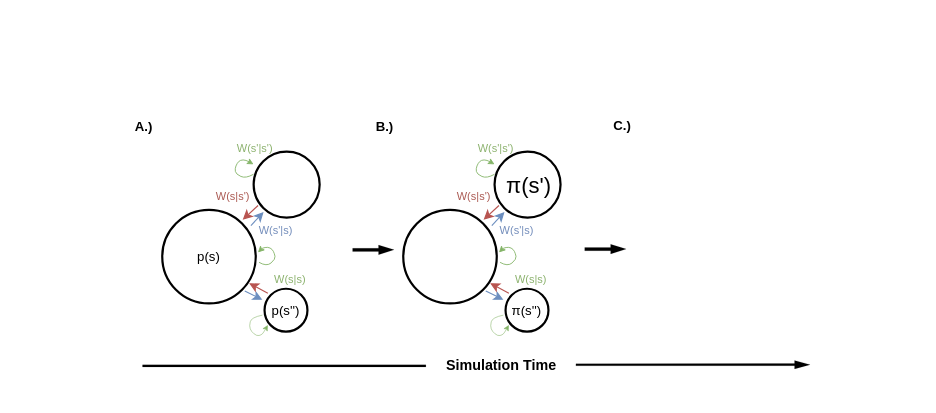
Image size: 936x413. Some labels were removed from this diagram. The box of each missing label's shape, as (x1, y1, x2, y2) in pixels:
p(s'): (238, 136, 334, 232)
π(s): (402, 208, 497, 304)
